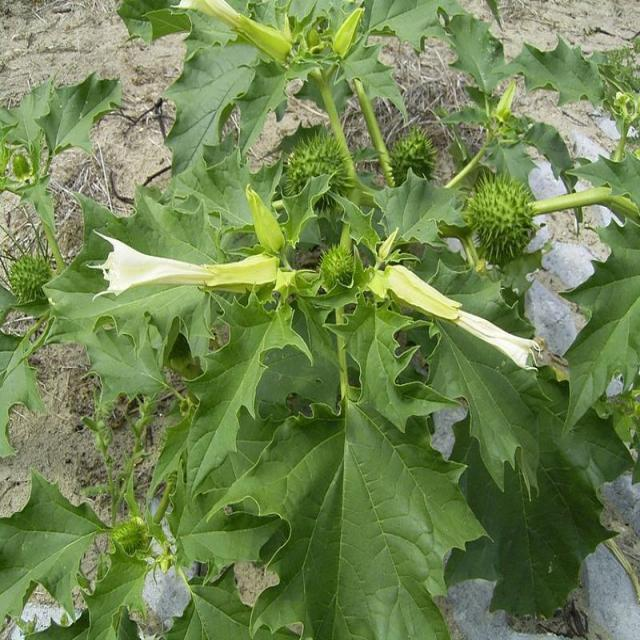Poisonous-Datura_Stramonium: (169, 0, 576, 256), (192, 427, 502, 640), (36, 235, 357, 392), (359, 240, 576, 427)
